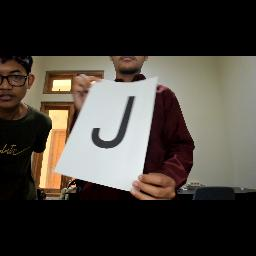j: (90, 92, 138, 164)
